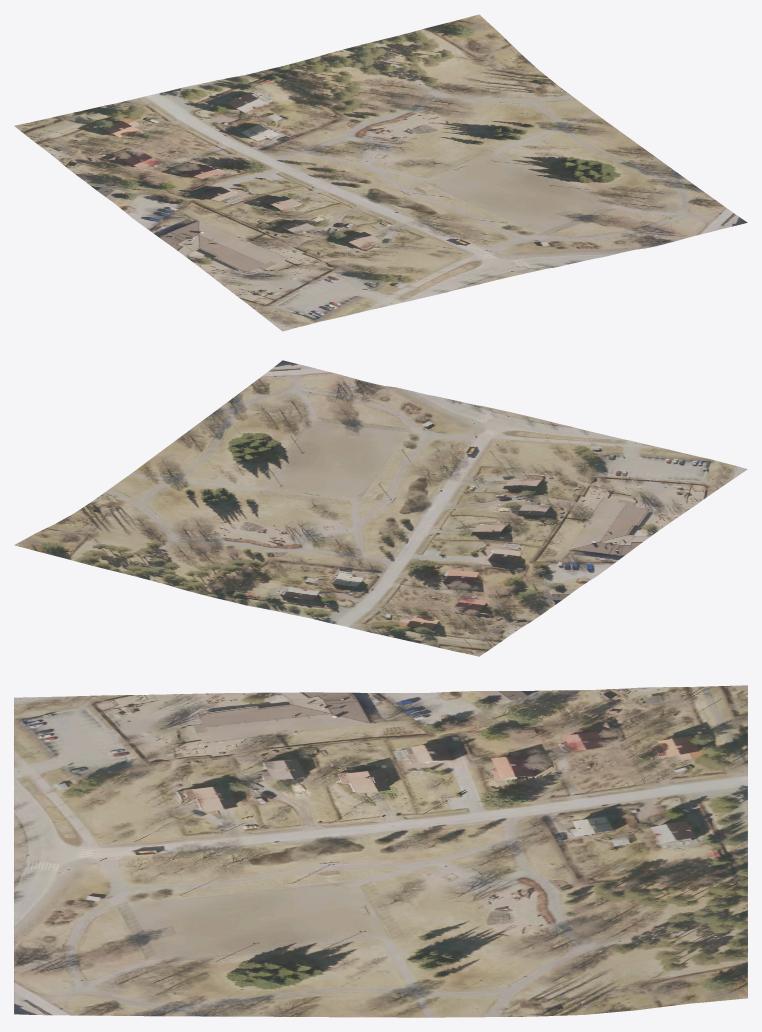
The model's file is CM_Terrain_24490458_6821022.fbx.
The picture shows the model from 3 angles, top to bottom: view 1: azimuth 30°, elevation 25°; view 2: azimuth 150°, elevation 25°; view 3: azimuth 270°, elevation 25°; orthographic projection. The views are drawn at different scales.
Parts seen in each view (by area): view 1: CM_Terrain_24490458_6821022_LOD0; view 2: CM_Terrain_24490458_6821022_LOD0; view 3: CM_Terrain_24490458_6821022_LOD0.
Part boxes in pixels (x1,y1,x2,y2): CM_Terrain_24490458_6821022_LOD0: [14, 14, 747, 331]; CM_Terrain_24490458_6821022_LOD0: [14, 360, 747, 656]; CM_Terrain_24490458_6821022_LOD0: [14, 685, 747, 1017].
Size of what is drawn, in the model's own units: 205 by 6.84 by 205.
